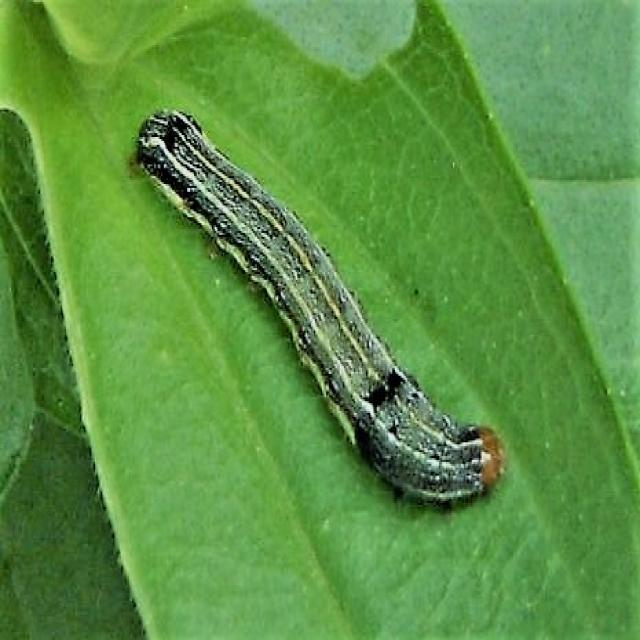Army worm: (2, 2, 638, 636), (132, 104, 507, 513)
